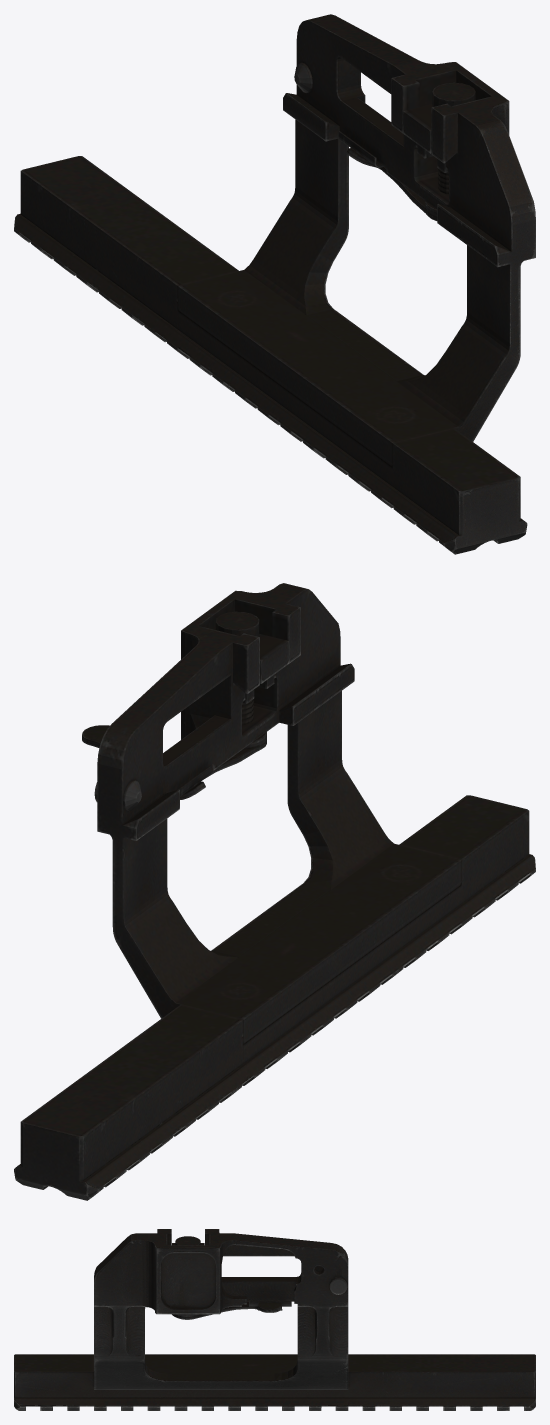
3 renders of one model, top to bottom at view 1: azimuth 30°, elevation 25°; view 2: azimuth 150°, elevation 25°; view 3: azimuth 270°, elevation 25°, orthographic. The views are drawn at different scales.
Parts seen in each view (by area): view 1: TW_5e569a2e56edd02abe09f280_PZ_Import; view 2: TW_5e569a2e56edd02abe09f280_PZ_Import; view 3: TW_5e569a2e56edd02abe09f280_PZ_Import.
Part boxes in pixels (x1,y1,x2,y2): TW_5e569a2e56edd02abe09f280_PZ_Import: (14, 14, 535, 554); TW_5e569a2e56edd02abe09f280_PZ_Import: (14, 583, 535, 1200); TW_5e569a2e56edd02abe09f280_PZ_Import: (14, 1229, 535, 1410).
Size of the model in its own units: 0.0343 by 0.1121 by 0.046.
Materials: 1 (1 with a texture image).
